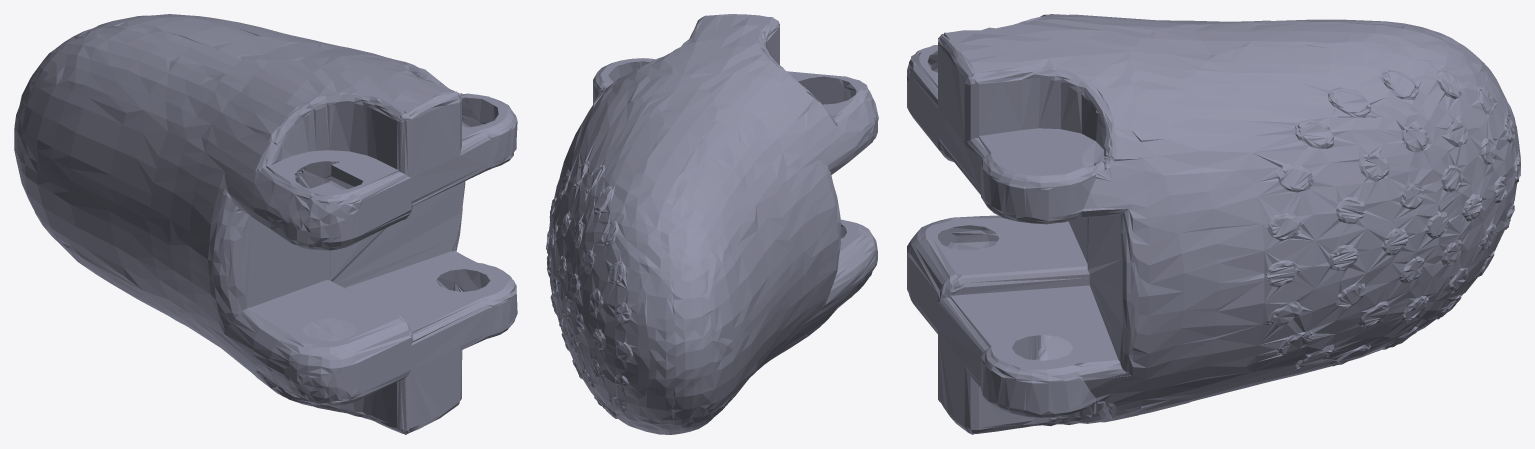
File: hand2_link_1_3_visuals.obj
3 renders of one model, left to right at view 1: azimuth 30°, elevation 25°; view 2: azimuth 150°, elevation 25°; view 3: azimuth 270°, elevation 25°, orthographic. The views are drawn at different scales.
Bounding box in the file's own units: 0.0201 × 0.0202 × 0.0299.
